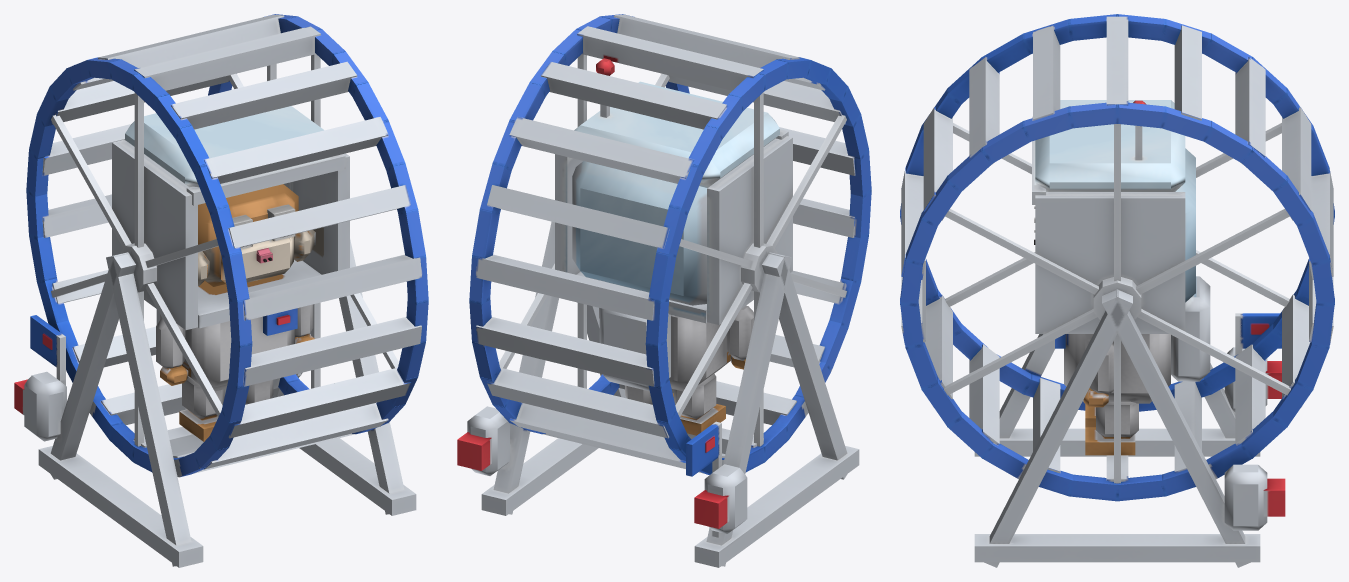
File: AstroHamster_Rig.fbx
3 views of the same model, side by side, from view 1: azimuth 30°, elevation 25°; view 2: azimuth 150°, elevation 25°; view 3: azimuth 270°, elevation 25° (orthographic).
Visible parts, largest first — view 1: Wheel, Body, Head, LegR, ArmR, ArmL; view 2: Wheel, Body, Head, LegR, ArmR; view 3: Wheel, Body, Head, LegL, ArmL.
Boxes of the visible parts, x1=… form: Wheel: x1=26, y1=14, x2=428, y2=477; Body: x1=14, y1=239, x2=416, y2=567; Head: x1=112, y1=64, x2=349, y2=329; LegR: x1=179, y1=377, x2=224, y2=441; ArmR: x1=156, y1=318, x2=188, y2=385; ArmL: x1=295, y1=304, x2=314, y2=343; Wheel: x1=469, y1=14, x2=871, y2=474; Body: x1=457, y1=222, x2=859, y2=567; Head: x1=555, y1=58, x2=792, y2=324; LegR: x1=673, y1=374, x2=725, y2=435; ArmR: x1=726, y1=305, x2=753, y2=369; Wheel: x1=900, y1=14, x2=1334, y2=501; Body: x1=974, y1=276, x2=1285, y2=567; Head: x1=1032, y1=100, x2=1195, y2=333; LegL: x1=1085, y1=401, x2=1138, y2=455; ArmL: x1=1083, y1=343, x2=1113, y2=407.
Bounding box in the file's own units: 3.79 × 6 × 5.24.
1 material, 1 textured.
